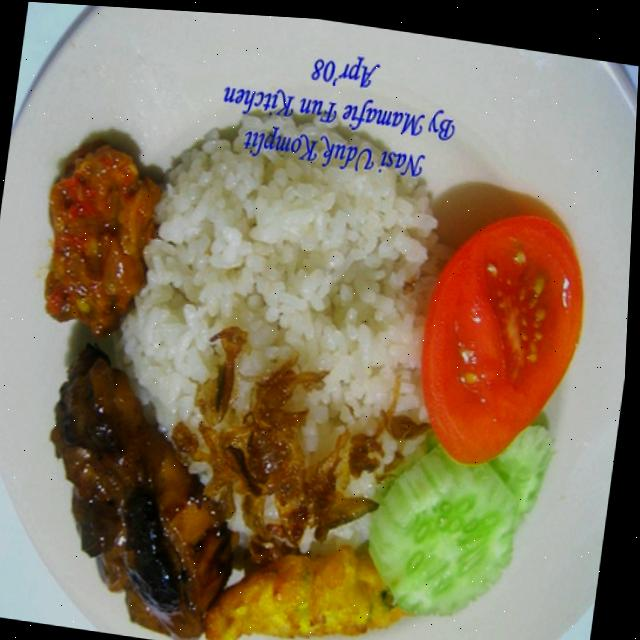米饭主食: (0, 18, 618, 640)
